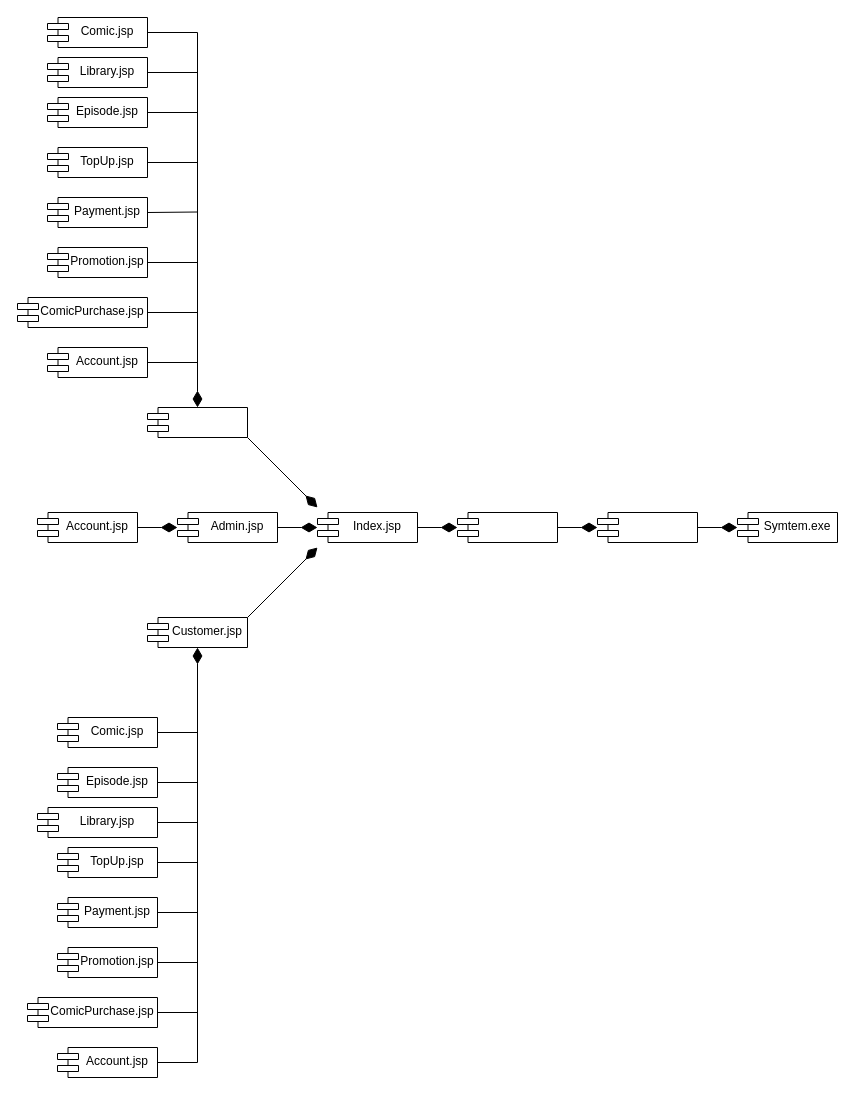
This 855x1096 diagram has some shape labels left out. The centre of each missing label's shape, as x and y in pixels:
Login.jsp: (x=507, y=527)
Officer.jsp: (x=197, y=422)
Register.jsp: (x=647, y=527)
